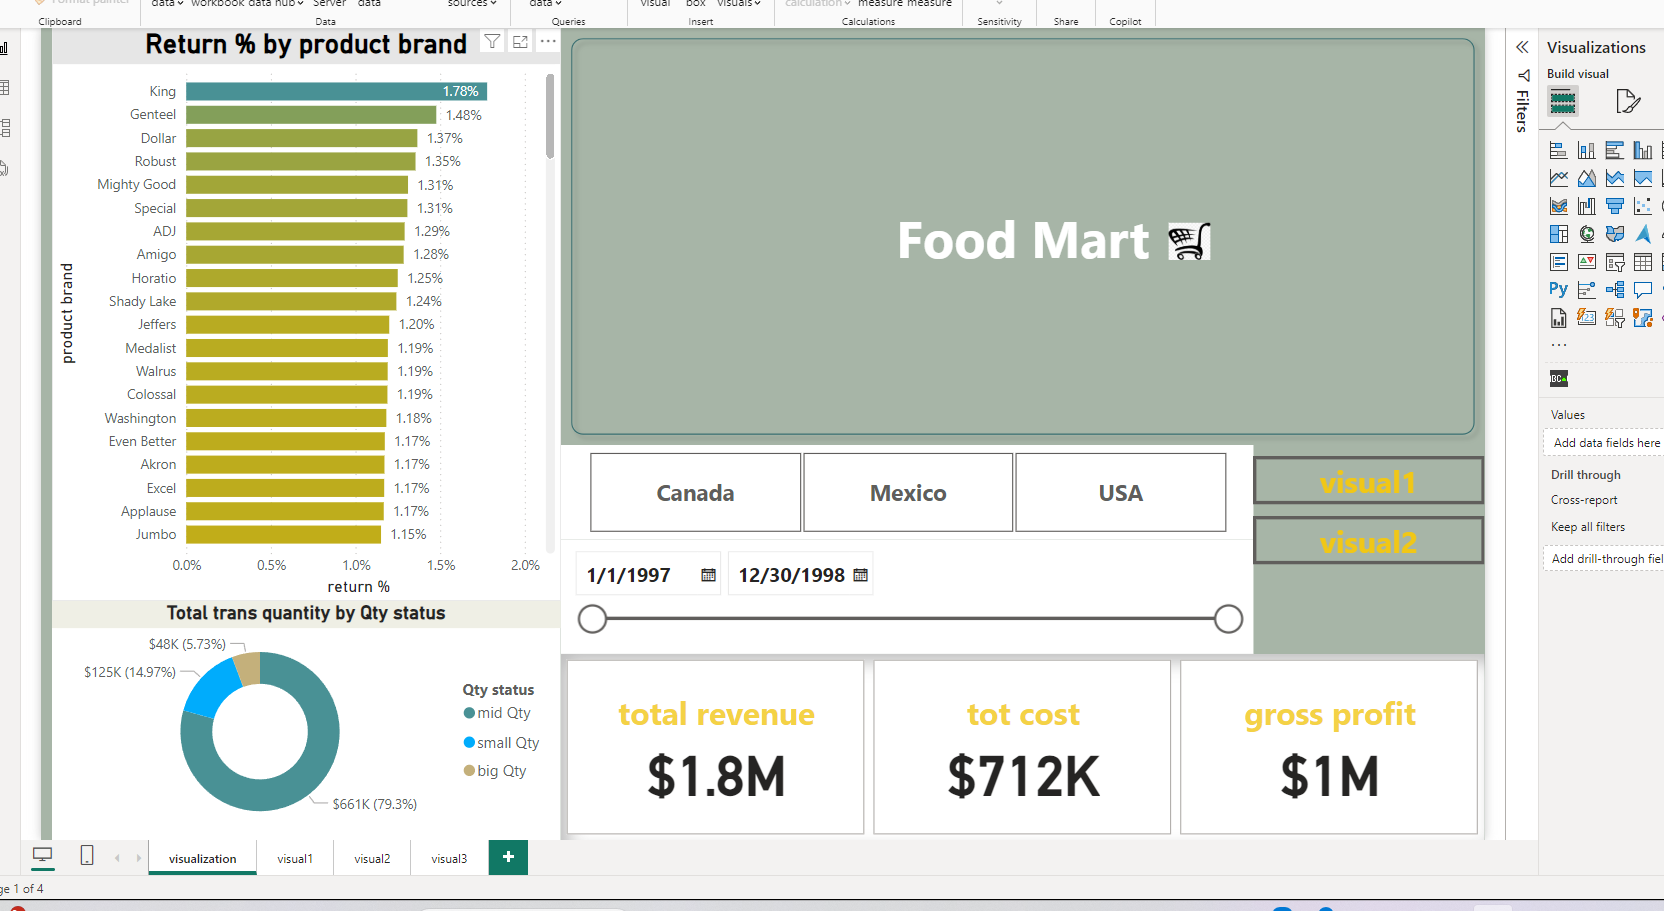

The page's visual inventory and layout, read from the dashboard file:
{"tool":"powerbi","page":{"name":"visualization","canvas":[1280,720],"ordinal":0},"visuals":[{"type":"clusteredBarChart","title":"Return % by product brand","fields":{"Category":["Product Data.product brand"],"Y":["all measures (2).return %"]},"box":[10,0,450.9,508],"z":0},{"type":"donutChart","title":"Total trans quantity by Qty status","fields":{"Category":["trans 97/98.Qty status"],"Y":["all measures (2).total trans quantity"]},"box":[10,508,450.9,212.6],"z":1000},{"type":"slicer","fields":{"Values":["Region Data.Country"]},"box":[460.9,369.6,613.6,84.2],"z":2000},{"type":"slicer","fields":{"Values":["cal table.Date"]},"box":[460.9,453.8,613.6,101.3],"z":3000},{"type":"cardVisual","fields":{"Data":["all measures (2).total revenue","all measures (2).tot cost","all measures (2).gross profit"]},"box":[460.9,555.1,819.1,165.5],"z":4000},{"type":"actionButton","box":[1074.5,432.4,205.5,42.8],"z":5000},{"type":"shape","box":[460.9,0,819.1,369.6],"z":6000},{"type":"image","box":[994.6,167,47.1,44.2],"z":7000},{"type":"actionButton","box":[1074.5,379.6,205.5,42.8],"z":8000}]}

Visuals, with their boxes on the page's 1280x720 design canvas (x1, y1, x2, y2). These are canvas units, not pixel positions in the 1664x911 screenshot, which may show the page scaled, cropped or inside an application window:
"Return % by product brand" clusteredBarChart: <bbox>10, 0, 461, 508</bbox>
"Total trans quantity by Qty status" donutChart: <bbox>10, 508, 461, 721</bbox>
slicer - Region Data.Country: <bbox>461, 370, 1074, 454</bbox>
slicer - cal table.Date: <bbox>461, 454, 1074, 555</bbox>
cardVisual - all measures (2).total revenue x all measures (2).tot cost: <bbox>461, 555, 1280, 721</bbox>
actionButton: <bbox>1074, 432, 1280, 475</bbox>
shape: <bbox>461, 0, 1280, 370</bbox>
image: <bbox>995, 167, 1042, 211</bbox>
actionButton: <bbox>1074, 380, 1280, 422</bbox>
